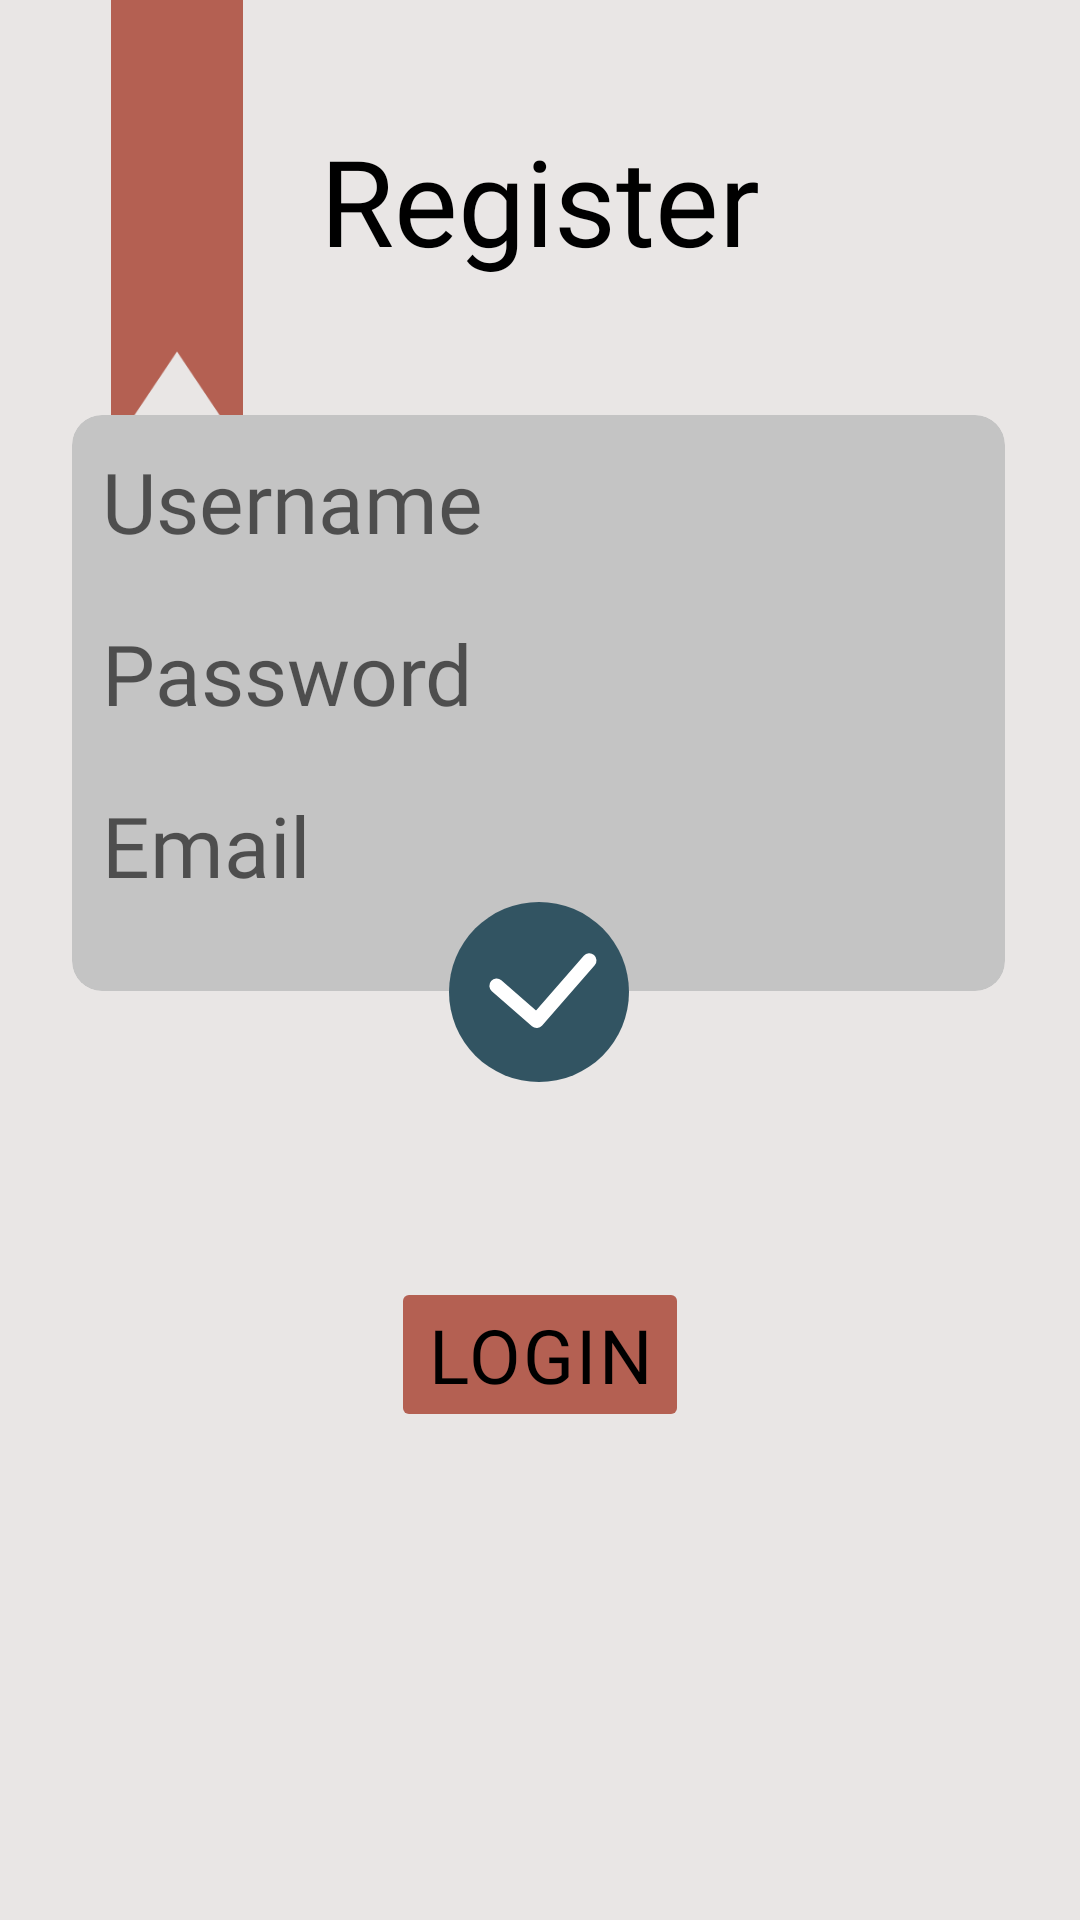

Screen size 1080px x 1920px. Icon name, then its center in pixels as point (x, y):
confirm: point (539, 992)
